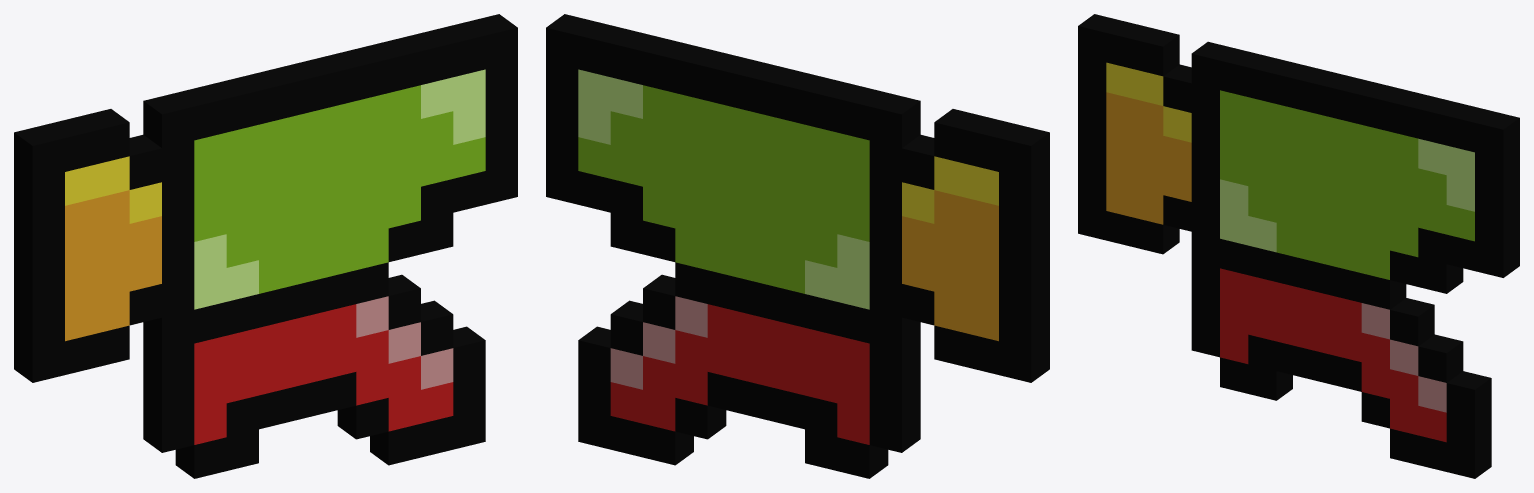
File: Lime Heavy Paintball Gun.glb
3 renders of one model, left to right at view 1: azimuth 30°, elevation 25°; view 2: azimuth 150°, elevation 25°; view 3: azimuth 330°, elevation 25°, orthographic. The views are drawn at different scales.
Visible parts, largest first — view 1: generated(Clone); view 2: generated(Clone); view 3: generated(Clone).
Boxes of the visible parts, x1,y1,x2,y2 form: generated(Clone): (14, 14, 517, 478); generated(Clone): (546, 14, 1049, 478); generated(Clone): (1078, 14, 1519, 478).
Size of the model in its own units: 15 by 12 by 0.9998.
1 material, 1 textured.
